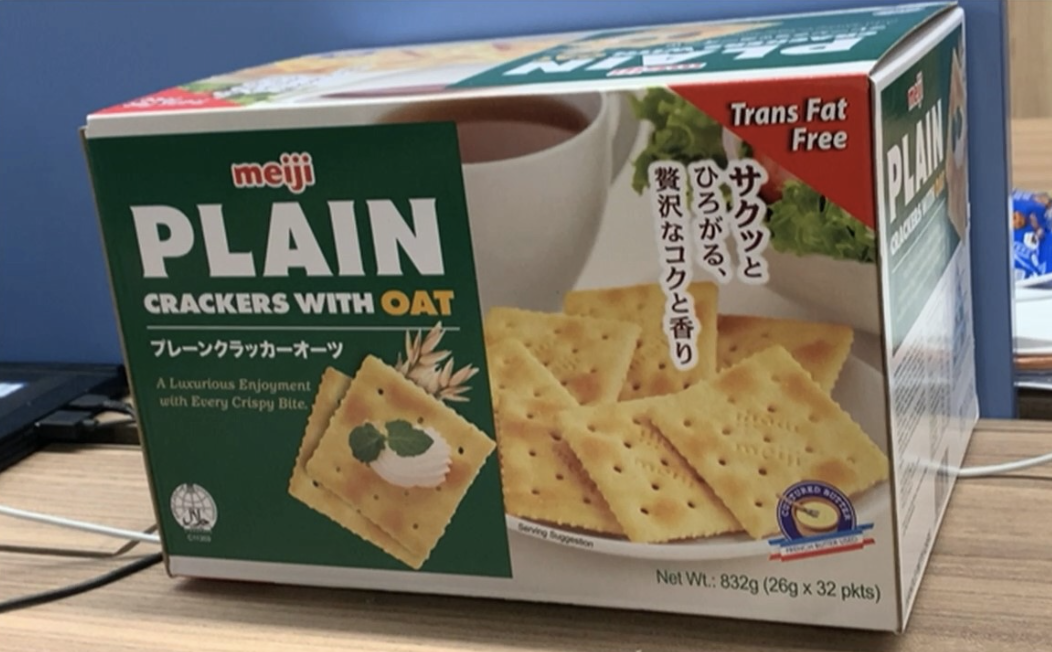crackers_800g-899g: (127, 107, 888, 601)
